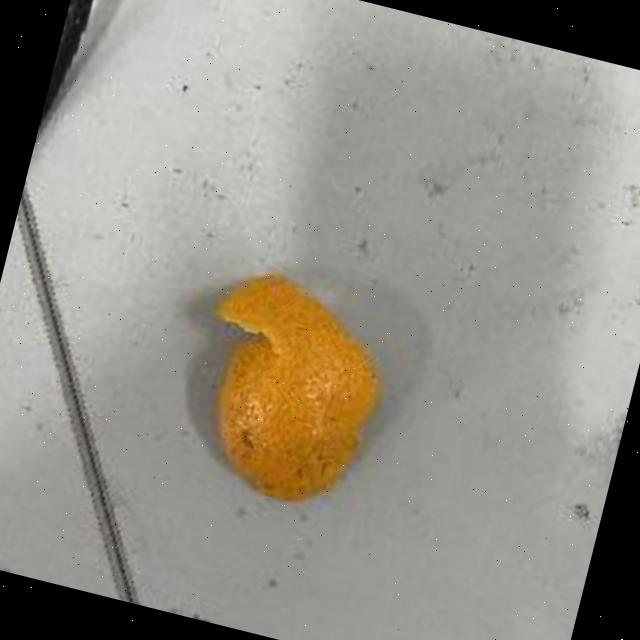orange-peel: (171, 256, 406, 519)
